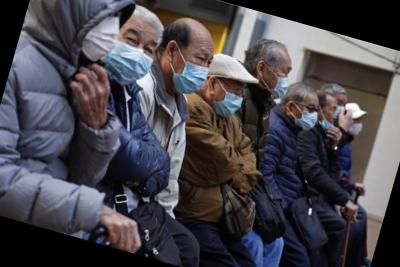mask_weared_incorrect: (317, 102, 341, 134)
with_mask: (101, 22, 161, 94), (77, 5, 126, 68), (167, 41, 216, 102), (210, 77, 248, 123), (263, 59, 296, 104), (290, 96, 324, 135), (330, 97, 350, 124), (347, 116, 367, 139)
